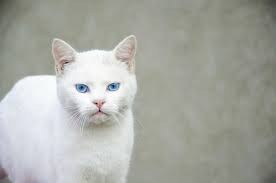Gato: (5, 38, 154, 178)
